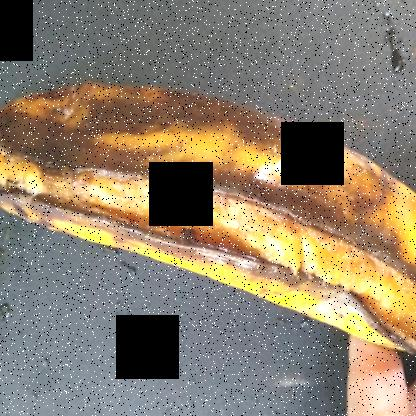rotten: (1, 37, 415, 364)
